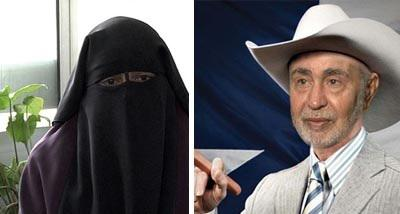NONE: (291, 66, 363, 142)
OK: (87, 67, 164, 132)
